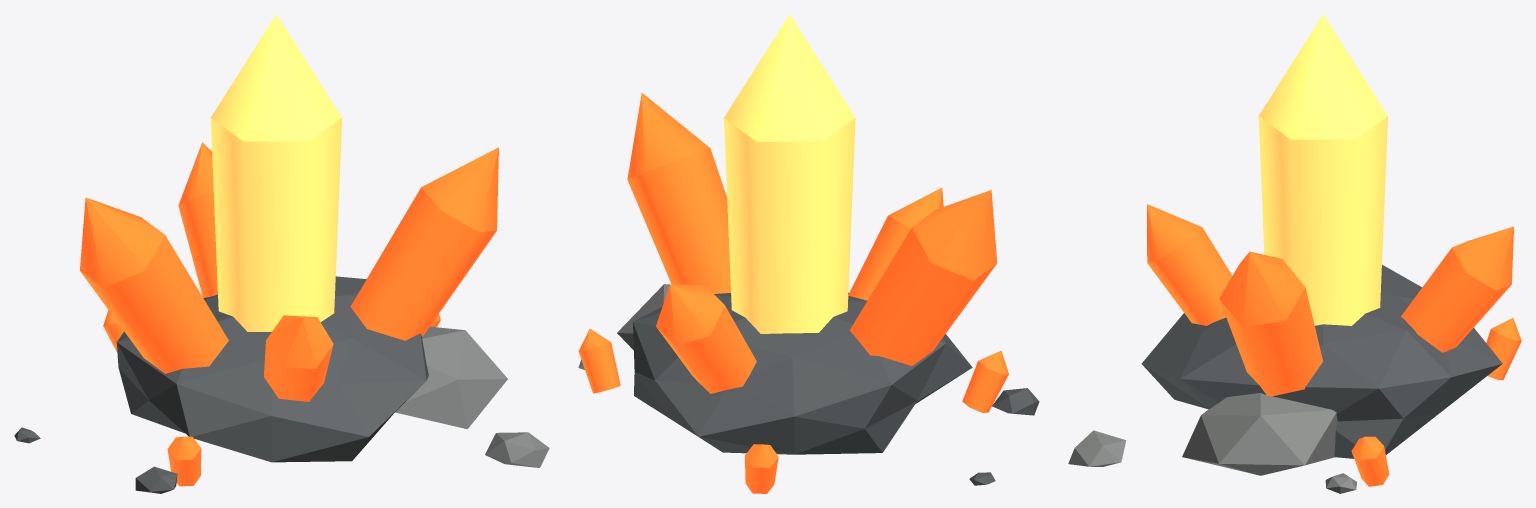
The model's file is CrystalFire.glb.
The picture shows the model from 3 angles, left to right: view 1: azimuth 30°, elevation 25°; view 2: azimuth 150°, elevation 25°; view 3: azimuth 270°, elevation 25°; orthographic projection.
Visible parts, largest first — view 1: Glow, Body, GlowCore; view 2: Glow, GlowCore, Body; view 3: Body, GlowCore, Glow.
Boxes of the visible parts, box(x1,y1,x2,y2) form: Glow: box(80, 142, 498, 486); Body: box(14, 276, 549, 493); GlowCore: box(210, 14, 342, 331); Glow: box(578, 93, 1008, 493); GlowCore: box(724, 14, 855, 333); Body: box(578, 284, 1039, 485); Body: box(1068, 264, 1502, 493); GlowCore: box(1258, 14, 1387, 325); Glow: box(1147, 204, 1521, 486).
Size of the model in its own units: 4.7 by 4.16 by 4.35.
3 materials, 1 textured.
